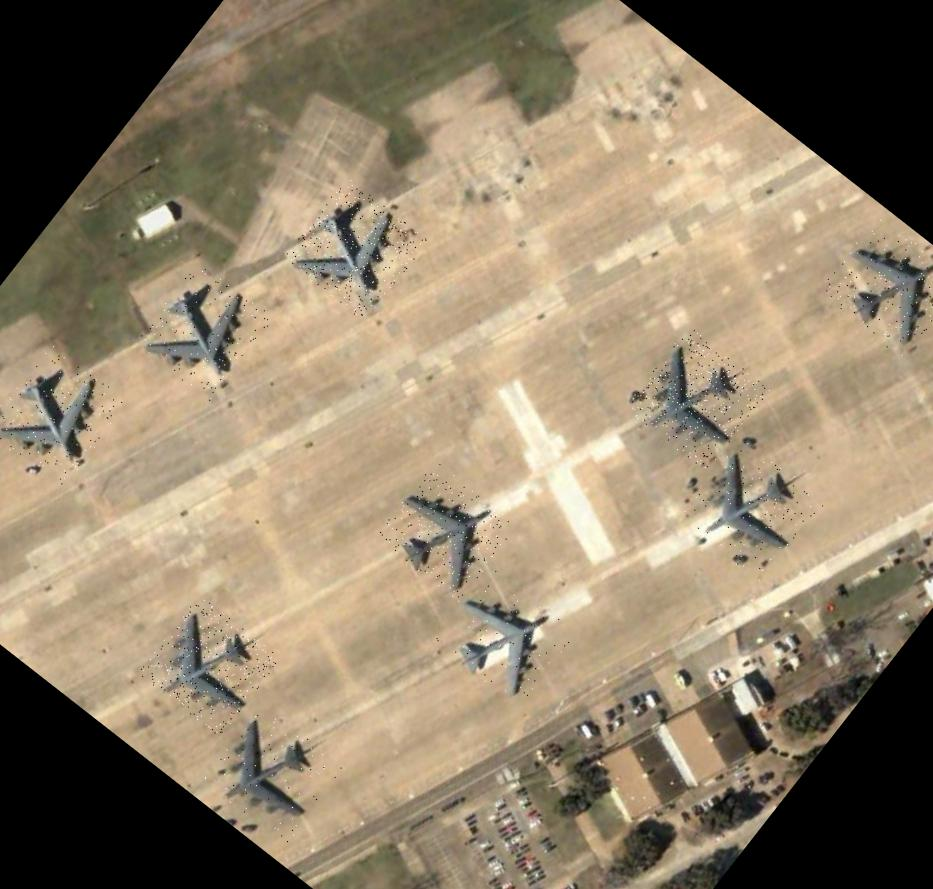A8: (676, 434, 828, 585), (623, 324, 770, 472), (429, 565, 577, 711), (282, 176, 428, 322), (201, 701, 346, 845), (374, 459, 518, 602), (136, 594, 280, 736), (134, 258, 274, 400), (0, 340, 129, 490), (815, 212, 933, 359)
